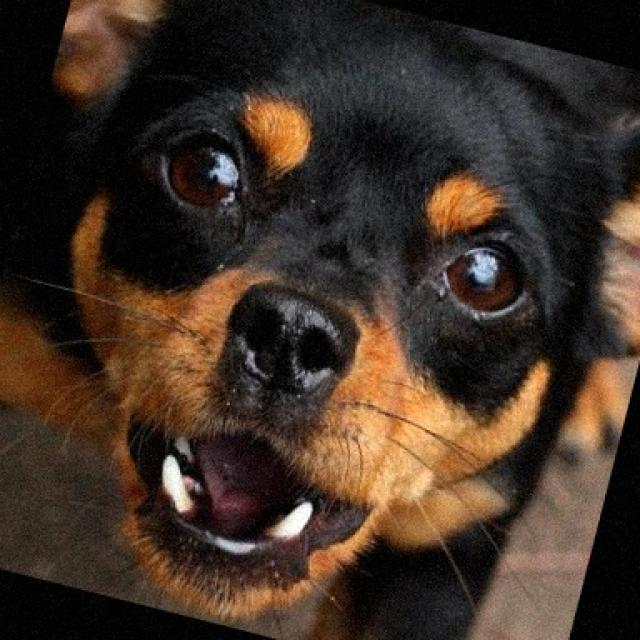angry: (73, 4, 572, 640)
